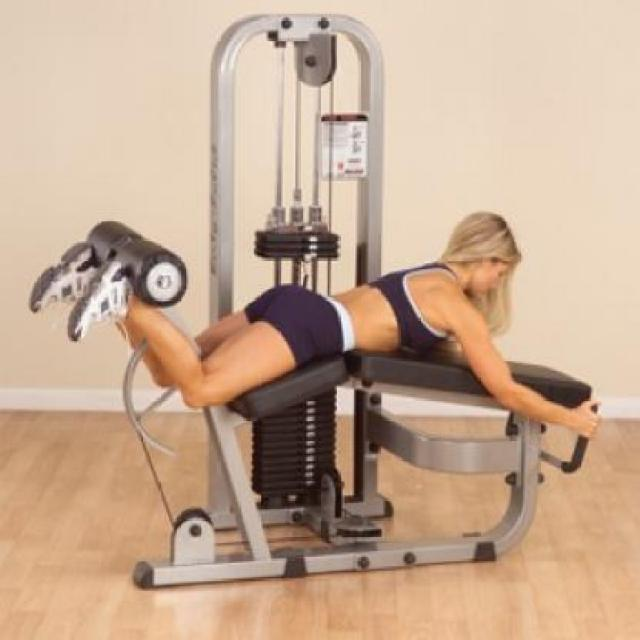reg curl machine: (26, 11, 603, 589)
